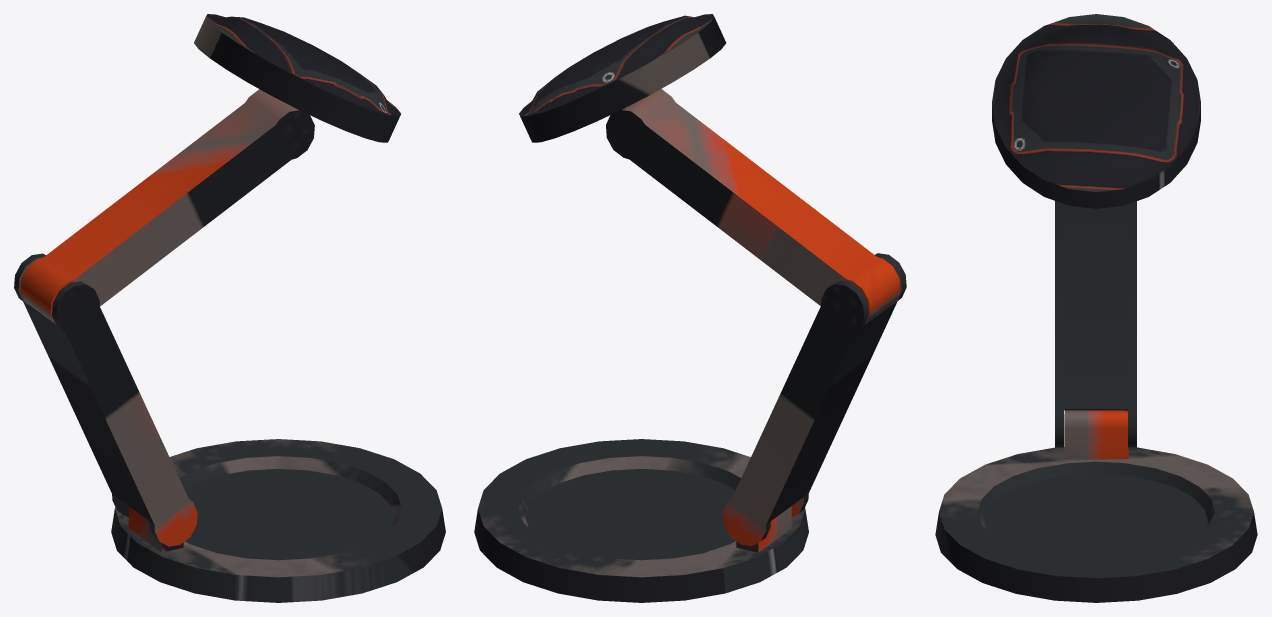
File: Pedestal.glb
3 views of the same model, side by side, from view 1: azimuth 30°, elevation 25°; view 2: azimuth 150°, elevation 25°; view 3: azimuth 270°, elevation 25° (orthographic). The views are drawn at different scales.
Visible parts, largest first — view 1: Pedestal; view 2: Pedestal; view 3: Pedestal.
Part boxes in pixels (x1=…): Pedestal: x1=14, y1=14, x2=445, y2=602; Pedestal: x1=474, y1=14, x2=906, y2=602; Pedestal: x1=935, y1=14, x2=1257, y2=602.
Size of what is drawn, in the model's own units: 0.8504 by 1.07 by 0.6346.
Materials: 1 (1 with a texture image).
